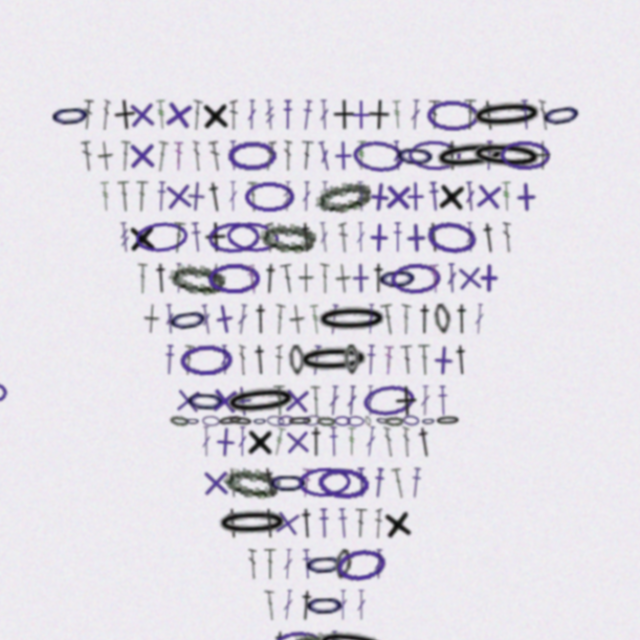chain: (317, 600, 391, 637), (230, 367, 304, 403), (430, 133, 504, 169), (465, 95, 539, 129), (465, 134, 538, 168), (316, 170, 375, 210), (300, 330, 373, 361), (223, 486, 295, 517), (318, 292, 390, 322), (230, 445, 287, 480), (178, 251, 234, 285), (337, 523, 389, 559), (363, 367, 415, 402), (353, 134, 406, 168), (424, 211, 475, 246), (146, 212, 198, 245), (233, 212, 285, 245), (265, 213, 320, 244), (320, 447, 371, 479), (293, 604, 347, 634), (302, 447, 354, 478), (277, 603, 327, 635), (189, 330, 240, 361), (407, 135, 458, 166), (390, 252, 440, 283), (216, 213, 266, 244), (532, 94, 576, 129), (425, 97, 475, 127), (176, 290, 219, 324), (216, 253, 266, 282), (235, 136, 283, 166), (251, 175, 300, 204), (495, 136, 544, 165), (64, 96, 106, 128), (307, 525, 348, 556), (194, 369, 235, 400), (377, 252, 418, 283), (394, 135, 435, 166), (308, 565, 348, 594), (273, 448, 313, 477), (431, 291, 450, 322), (336, 526, 355, 556), (293, 331, 310, 361), (346, 331, 362, 360), (225, 397, 251, 410), (235, 398, 260, 410), (433, 398, 458, 409), (292, 399, 317, 409), (272, 398, 290, 410), (180, 398, 198, 409), (307, 398, 325, 409), (402, 398, 419, 409), (320, 399, 338, 409), (385, 399, 403, 409), (283, 398, 299, 409), (211, 399, 228, 409), (349, 399, 366, 409), (376, 398, 391, 409), (337, 399, 353, 409), (195, 399, 209, 409), (259, 399, 273, 409), (420, 399, 434, 409), (307, 632, 324, 640), (343, 632, 358, 640), (267, 633, 284, 640), (287, 633, 304, 640), (324, 633, 341, 640), (366, 399, 373, 409)
double: (381, 292, 397, 322), (285, 253, 301, 283), (320, 136, 336, 166), (181, 214, 196, 244), (391, 448, 405, 478), (208, 292, 222, 322), (165, 136, 179, 166), (217, 136, 231, 166), (400, 331, 414, 360), (130, 175, 144, 204), (304, 136, 318, 165), (243, 292, 256, 322), (252, 253, 265, 283), (95, 136, 108, 166), (356, 487, 369, 516), (191, 331, 204, 360), (417, 331, 430, 360), (321, 214, 334, 243), (147, 175, 160, 204), (270, 565, 282, 594), (287, 565, 299, 594), (270, 526, 282, 555), (366, 409, 378, 438), (279, 370, 291, 399), (331, 370, 343, 399), (348, 370, 360, 399), (279, 292, 291, 321), (461, 175, 473, 204), (131, 136, 143, 165), (270, 136, 282, 165), (96, 97, 108, 126), (200, 97, 212, 126), (427, 97, 439, 126), (461, 97, 473, 126), (331, 604, 342, 633), (305, 448, 316, 477), (400, 292, 411, 321), (470, 292, 481, 321), (148, 253, 159, 282), (444, 253, 455, 282), (357, 175, 368, 204), (392, 136, 403, 165), (322, 97, 333, 126), (409, 97, 420, 126), (358, 565, 368, 594), (288, 526, 298, 555), (210, 409, 220, 438), (384, 409, 394, 438), (314, 370, 324, 399), (419, 370, 429, 399), (384, 331, 394, 360), (175, 292, 185, 321), (367, 292, 377, 321), (323, 253, 333, 282), (428, 253, 438, 282), (341, 214, 351, 243), (462, 214, 472, 243), (254, 175, 264, 204), (114, 97, 124, 126), (532, 97, 542, 126), (341, 565, 350, 594), (375, 526, 384, 555), (245, 409, 254, 438), (367, 370, 376, 399), (228, 331, 237, 360), (184, 253, 193, 282), (271, 214, 280, 243), (358, 214, 367, 243), (236, 175, 245, 204), (306, 175, 315, 204), (184, 136, 193, 165), (288, 136, 297, 165), (254, 97, 263, 126), (255, 526, 263, 555), (402, 409, 410, 438), (498, 214, 506, 243), (202, 136, 210, 165), (237, 97, 245, 126), (376, 487, 383, 516), (246, 331, 253, 360), (281, 331, 288, 360)
half_double: (266, 447, 286, 478), (301, 565, 320, 595), (414, 409, 433, 439), (214, 175, 233, 205), (276, 604, 294, 634), (267, 253, 285, 283), (476, 214, 494, 244), (476, 97, 494, 127), (232, 487, 249, 516), (267, 487, 284, 516), (258, 331, 275, 360), (450, 331, 467, 360), (415, 292, 432, 321), (371, 253, 388, 282), (302, 214, 319, 243), (424, 214, 441, 243), (303, 487, 319, 516), (312, 409, 328, 438), (259, 292, 275, 321), (451, 292, 467, 321), (164, 253, 180, 282), (442, 136, 458, 165), (373, 448, 387, 478), (408, 448, 422, 478), (313, 331, 327, 361), (330, 292, 344, 322), (304, 97, 318, 127), (339, 487, 352, 516), (199, 214, 212, 243), (426, 175, 439, 204), (513, 97, 526, 126), (305, 526, 317, 555), (357, 448, 369, 477), (435, 370, 447, 399), (174, 331, 186, 360), (366, 331, 378, 360), (166, 175, 178, 204), (235, 136, 247, 165), (479, 136, 491, 165), (322, 487, 333, 516), (331, 409, 342, 438), (392, 214, 403, 243), (287, 97, 298, 126)
noise: (5, 366, 27, 388)
single: (276, 485, 309, 518), (216, 290, 249, 323), (172, 95, 205, 128), (234, 369, 266, 401), (364, 174, 396, 206), (182, 369, 213, 400), (217, 369, 248, 400), (286, 369, 317, 400), (451, 252, 482, 283), (173, 174, 204, 205), (190, 174, 221, 205), (469, 174, 500, 205), (138, 96, 169, 127), (383, 486, 413, 518), (209, 448, 239, 478), (218, 409, 248, 439), (287, 409, 317, 439), (426, 331, 456, 361), (365, 214, 395, 244), (400, 214, 430, 244), (383, 175, 413, 205), (505, 175, 535, 205), (435, 174, 464, 205), (348, 253, 377, 282), (400, 175, 429, 204), (139, 136, 168, 165), (331, 136, 360, 165), (348, 97, 377, 126), (140, 214, 168, 244), (210, 97, 238, 127), (471, 253, 499, 282), (253, 409, 280, 438), (125, 96, 149, 127), (394, 370, 417, 400), (212, 214, 235, 243), (368, 97, 391, 126), (335, 97, 357, 126), (293, 292, 311, 322), (337, 253, 355, 283), (110, 136, 128, 166), (232, 448, 249, 478), (215, 253, 232, 283), (155, 292, 171, 321), (303, 253, 318, 282), (529, 136, 544, 165)
treble: (277, 409, 292, 439), (313, 292, 326, 322), (131, 214, 143, 243), (113, 175, 125, 204), (166, 97, 178, 126), (287, 175, 298, 204), (496, 175, 507, 204), (270, 97, 281, 126), (392, 97, 403, 126), (349, 409, 359, 438), (323, 175, 333, 204), (358, 136, 368, 165)
